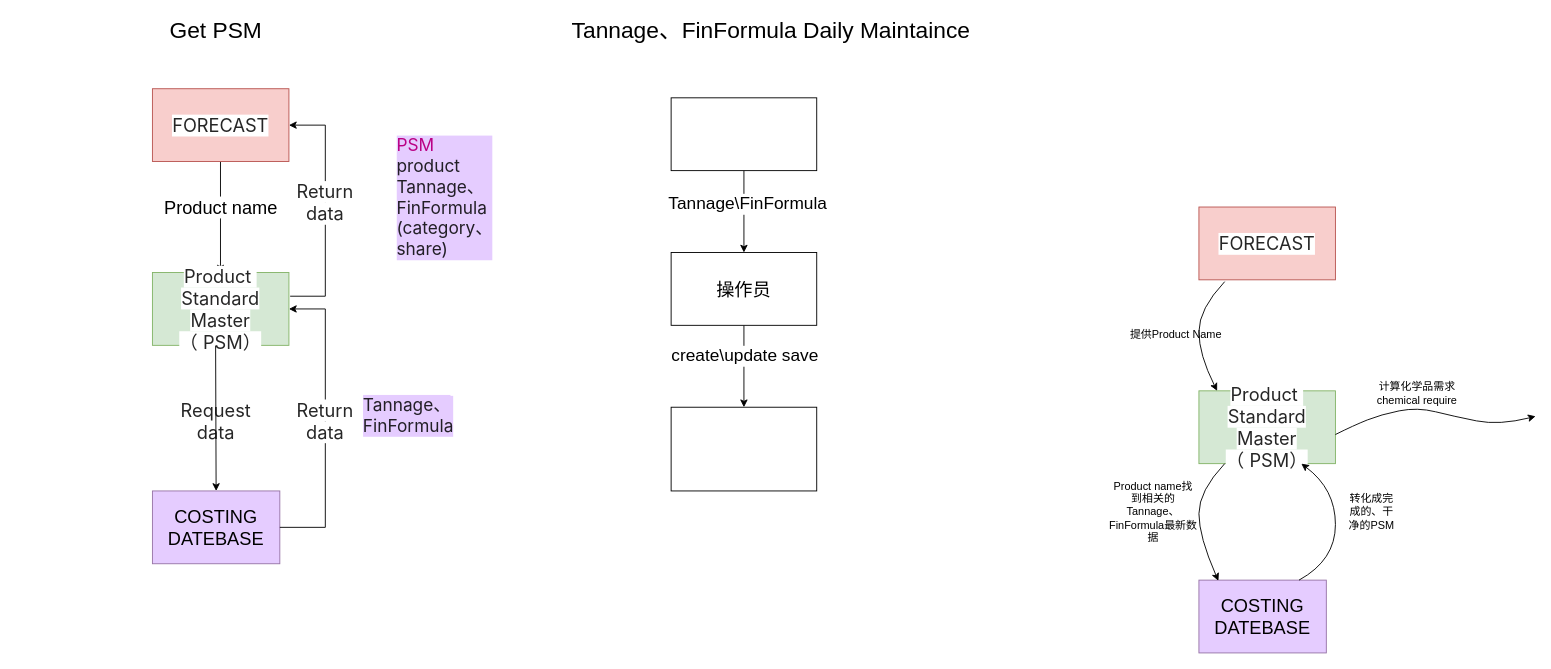
Image size: 1551x669. Some labels were removed from this diagram. Each missing label, with the centre of its shape:
Costing: the point at 743,448
技师: the point at 743,134
